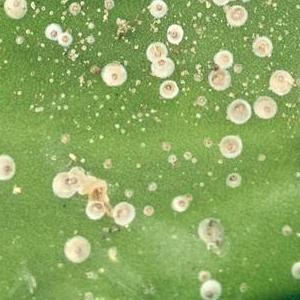Femea: (268, 73, 289, 93), (255, 99, 274, 118), (106, 67, 127, 84), (55, 175, 72, 196), (198, 283, 218, 298), (161, 82, 174, 99), (45, 24, 60, 37), (227, 173, 240, 187), (174, 197, 188, 210), (57, 32, 70, 45)
Linfa: (73, 74, 90, 88), (113, 122, 127, 136), (124, 113, 137, 125), (151, 113, 162, 121), (137, 125, 149, 131), (75, 29, 83, 37), (59, 92, 65, 102), (79, 44, 89, 50), (105, 93, 112, 101), (144, 110, 151, 118), (118, 104, 125, 111), (62, 69, 70, 75), (96, 50, 102, 58), (47, 77, 53, 85), (132, 43, 140, 49), (149, 107, 155, 114)
Macho: (66, 152, 78, 162)
